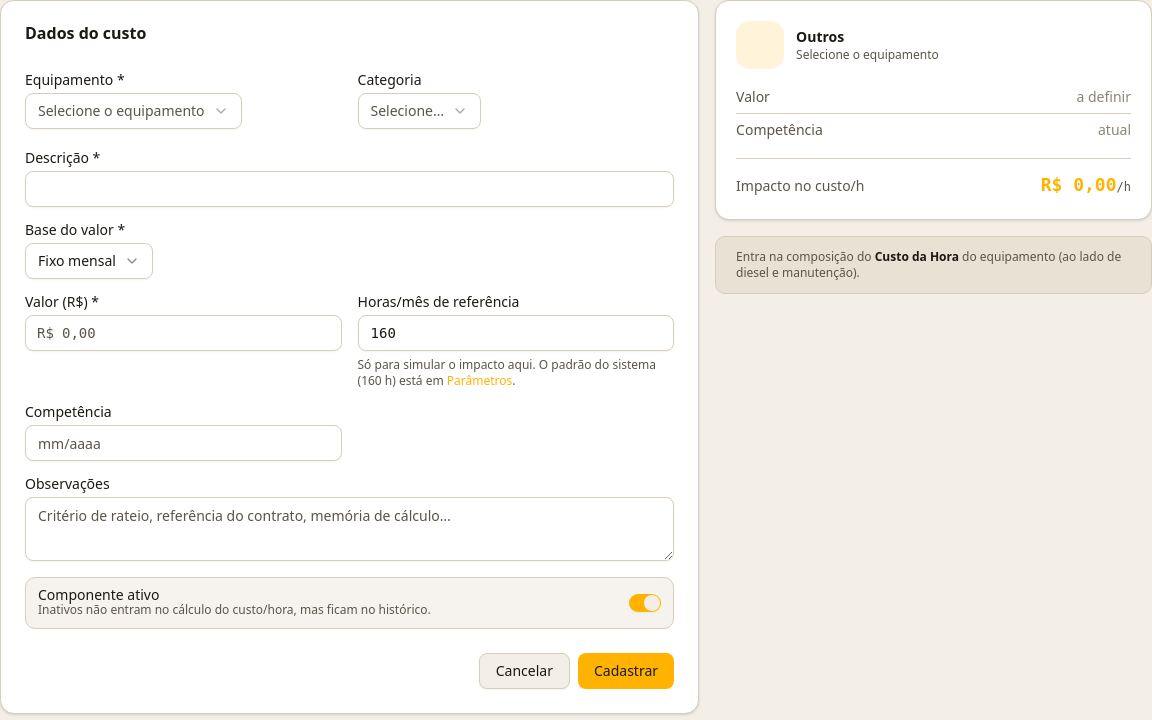
ComponenteCustoForm › na criação calcula o impacto no custo/h ao vivo (base mensal)
Step 1. Type "Parcela FINAME" into the field labelled "Descrição *" → (350,189), box [25, 171, 674, 207]
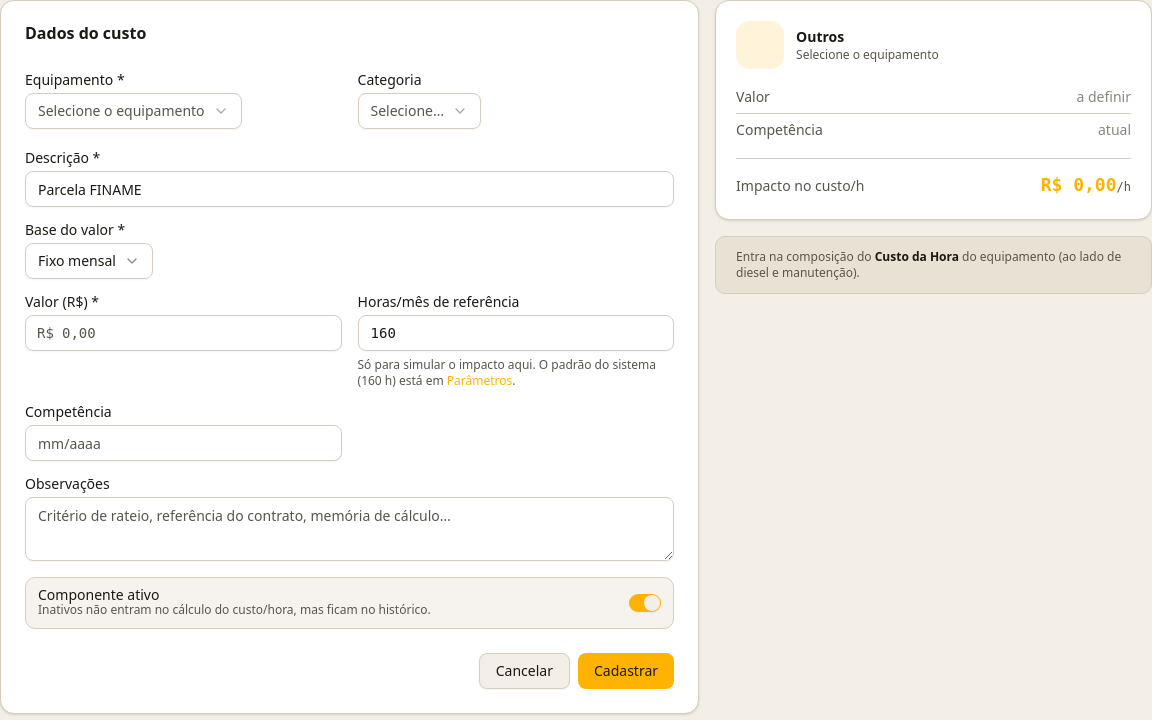
Step 2. Type "420000" into the field labelled "Valor (R$) *" → (183,333), box [25, 315, 342, 351]
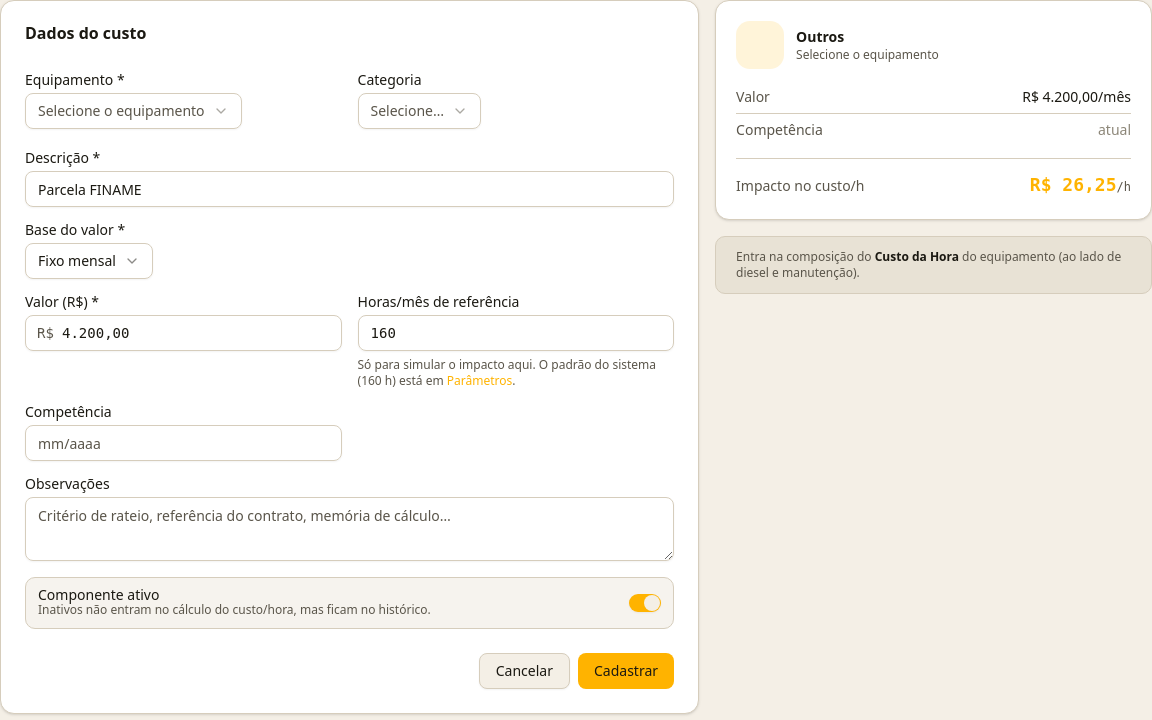
Step 3. Replace the text in the number field labelled "Horas/mês de referência" with "200" → (516,333), box [358, 315, 674, 351]
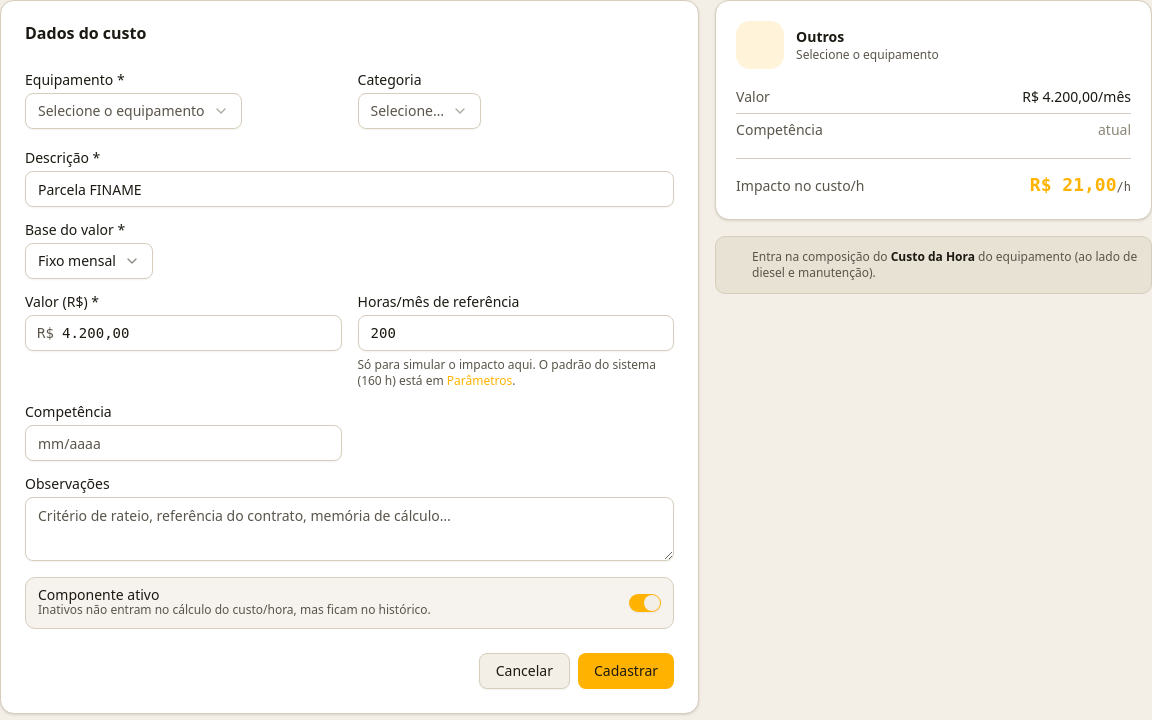
Expected: the text "R$ 21,00" is shown, [1030, 174, 1116, 195]
